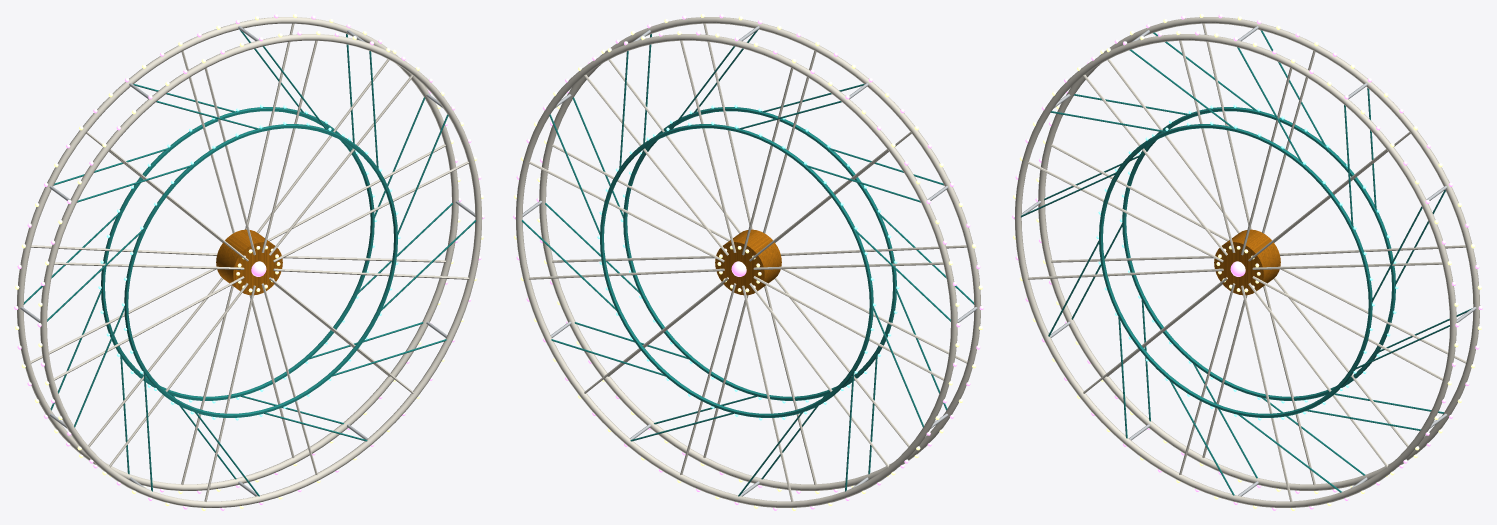
Rendered from ferris-rim.glb.
The picture shows the model from 3 angles, left to right: view 1: azimuth 30°, elevation 25°; view 2: azimuth 150°, elevation 25°; view 3: azimuth 330°, elevation 25°; orthographic projection.
Parts seen in each view (by area): view 1: ferris-rim; view 2: ferris-rim; view 3: ferris-rim.
Part boxes in pixels (x1,y1,x2,y2): ferris-rim: (14,14,484,510); ferris-rim: (513,14,983,510); ferris-rim: (1012,14,1482,510).
Bounding box in the file's own units: 28.73 × 28.76 × 3.
7 materials, 1 textured.
